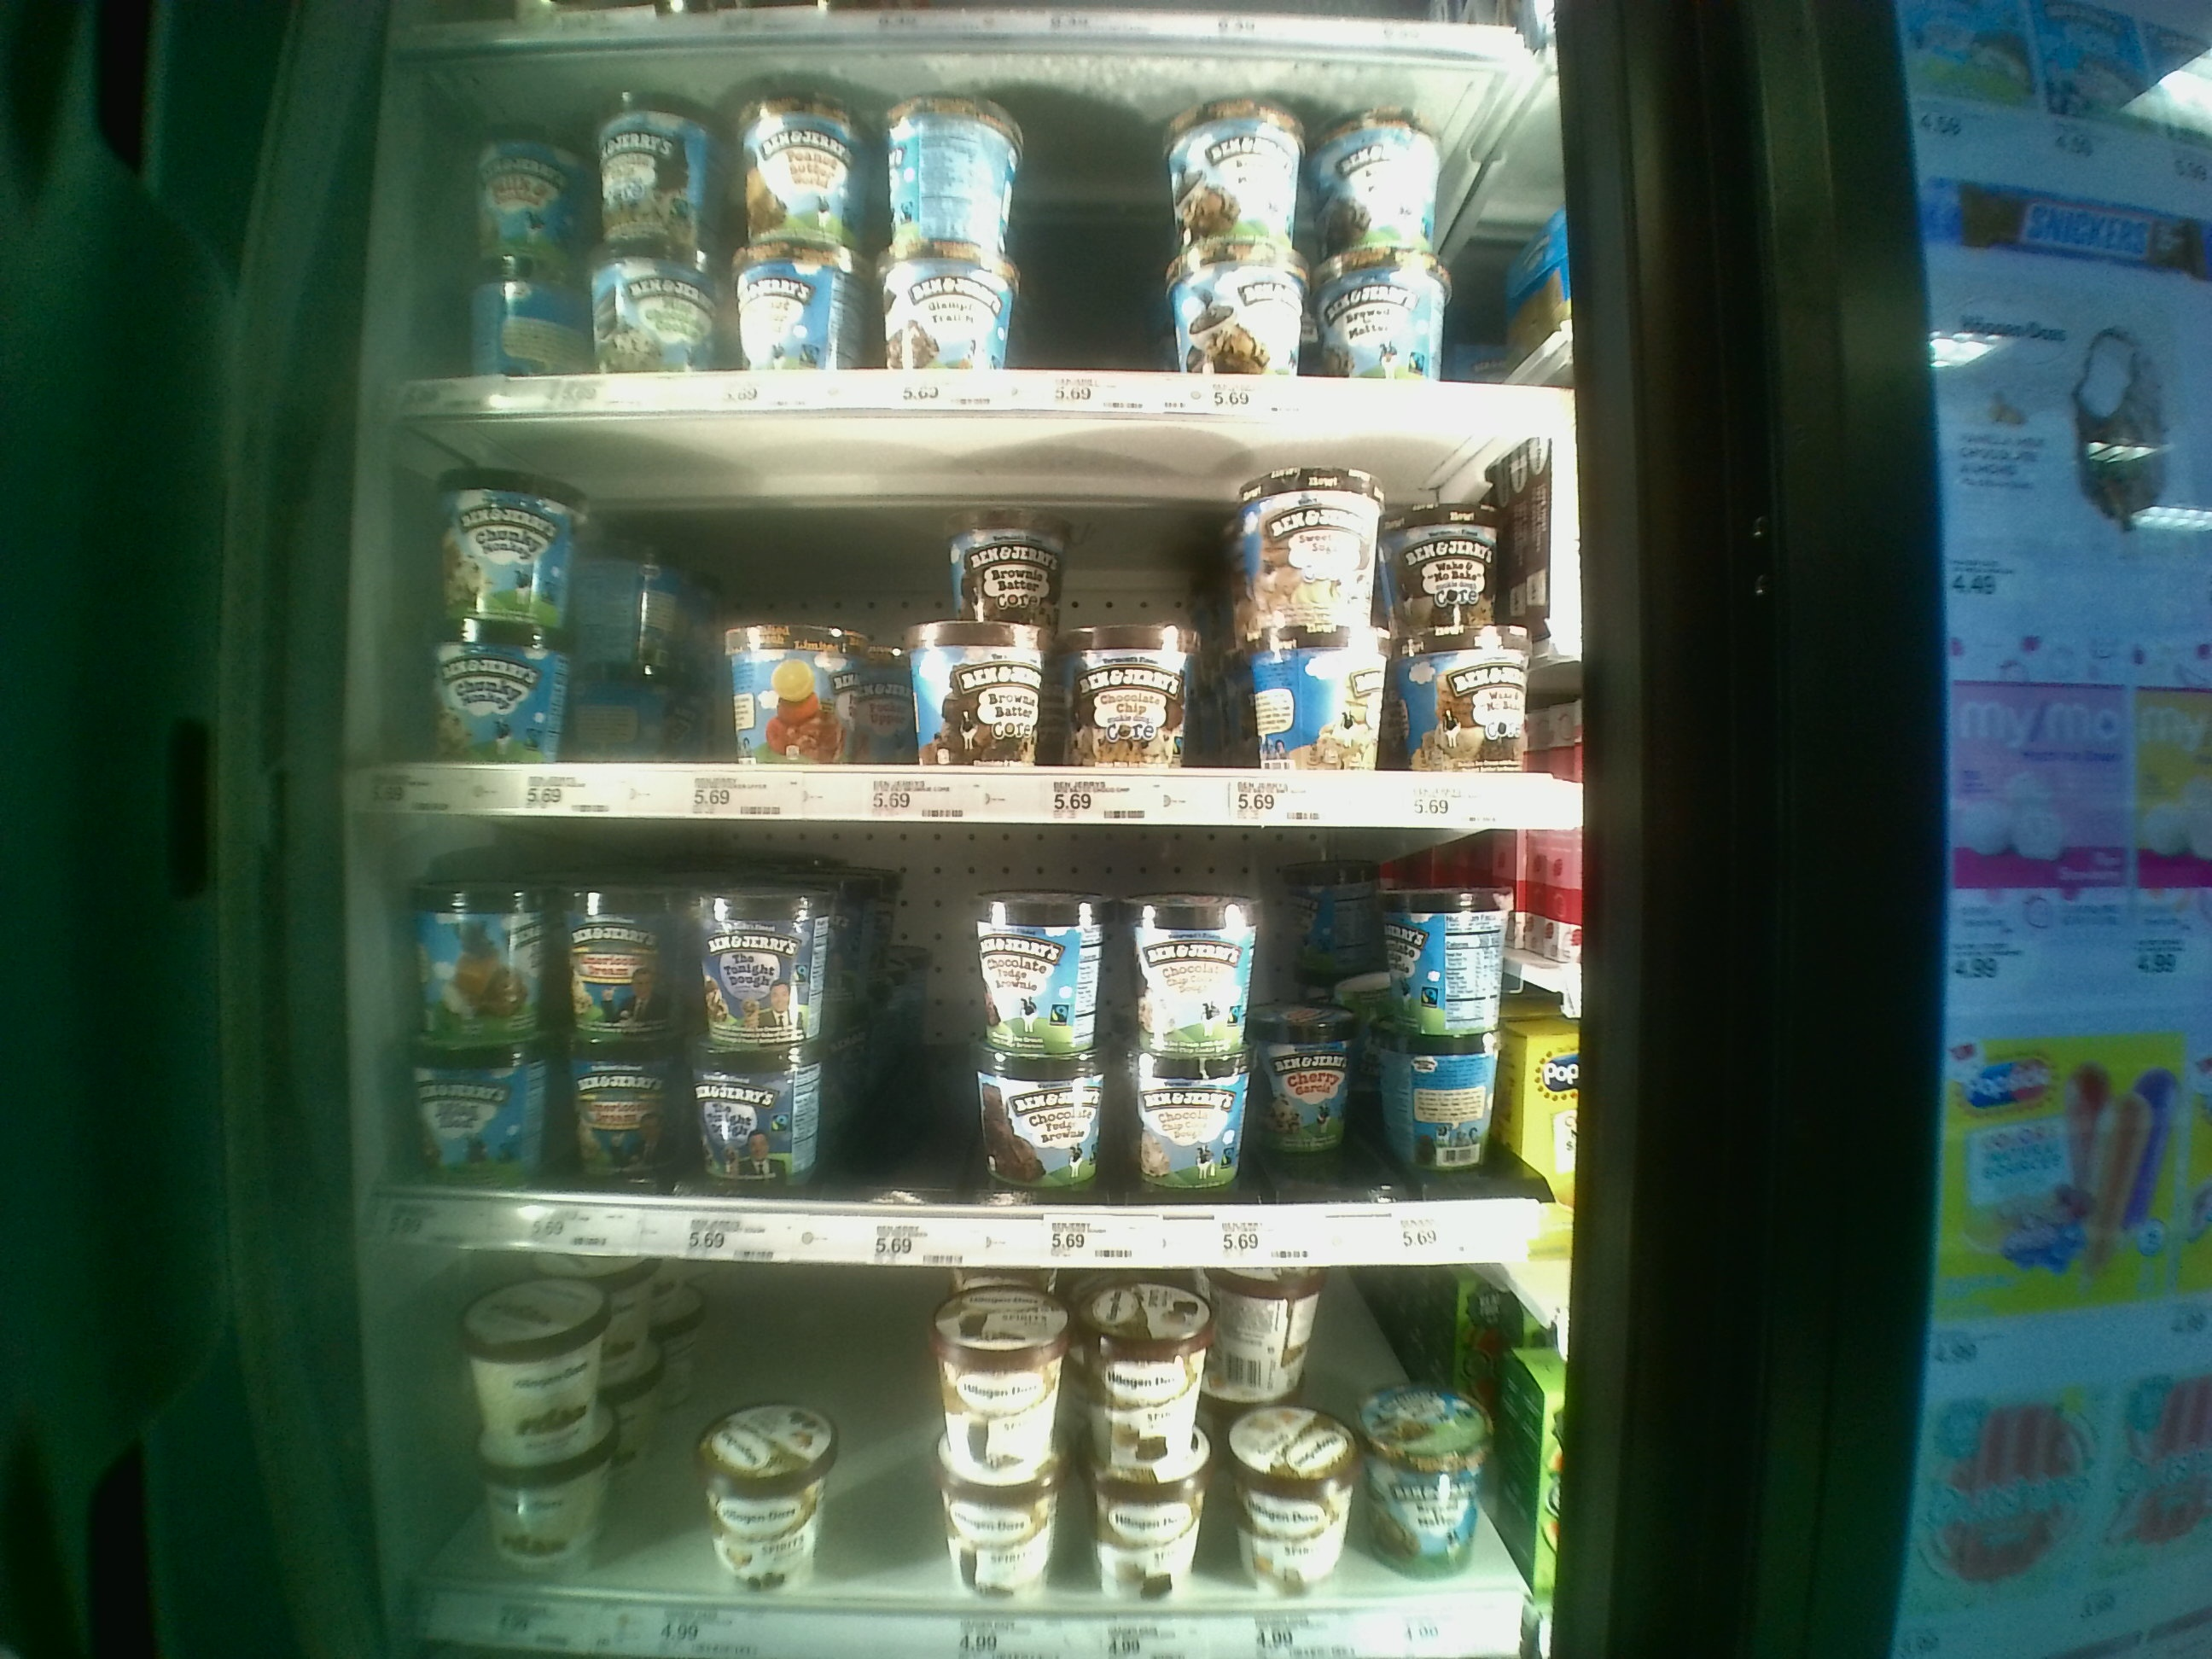ice-cream-shelf: (359, 817, 1578, 1260), (355, 413, 1595, 819), (359, 1258, 1541, 1650)
